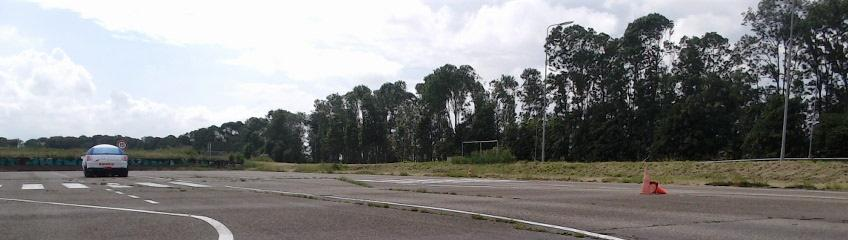Car: (82, 144, 127, 177)
Speed-limit-15km-h-: (117, 140, 128, 150)
